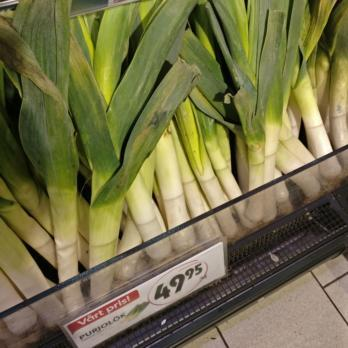Leek Leaves: (0, 0, 342, 182)
